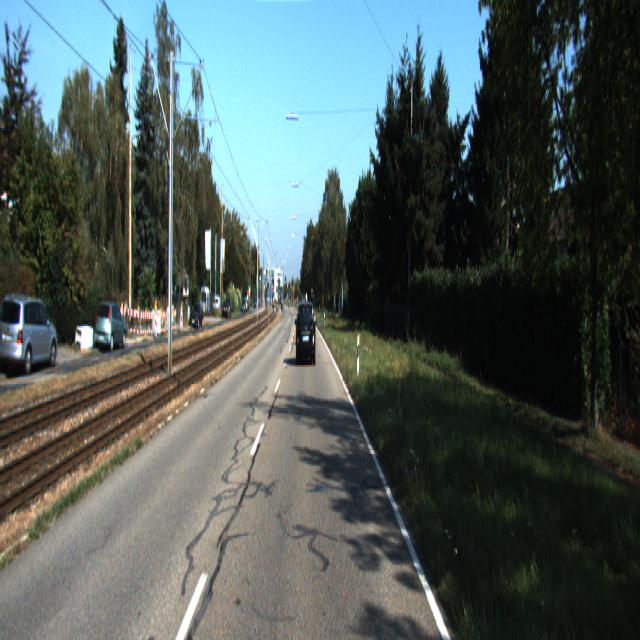Car: (0, 288, 58, 372), (94, 302, 128, 352), (296, 300, 316, 366), (189, 303, 205, 330)
